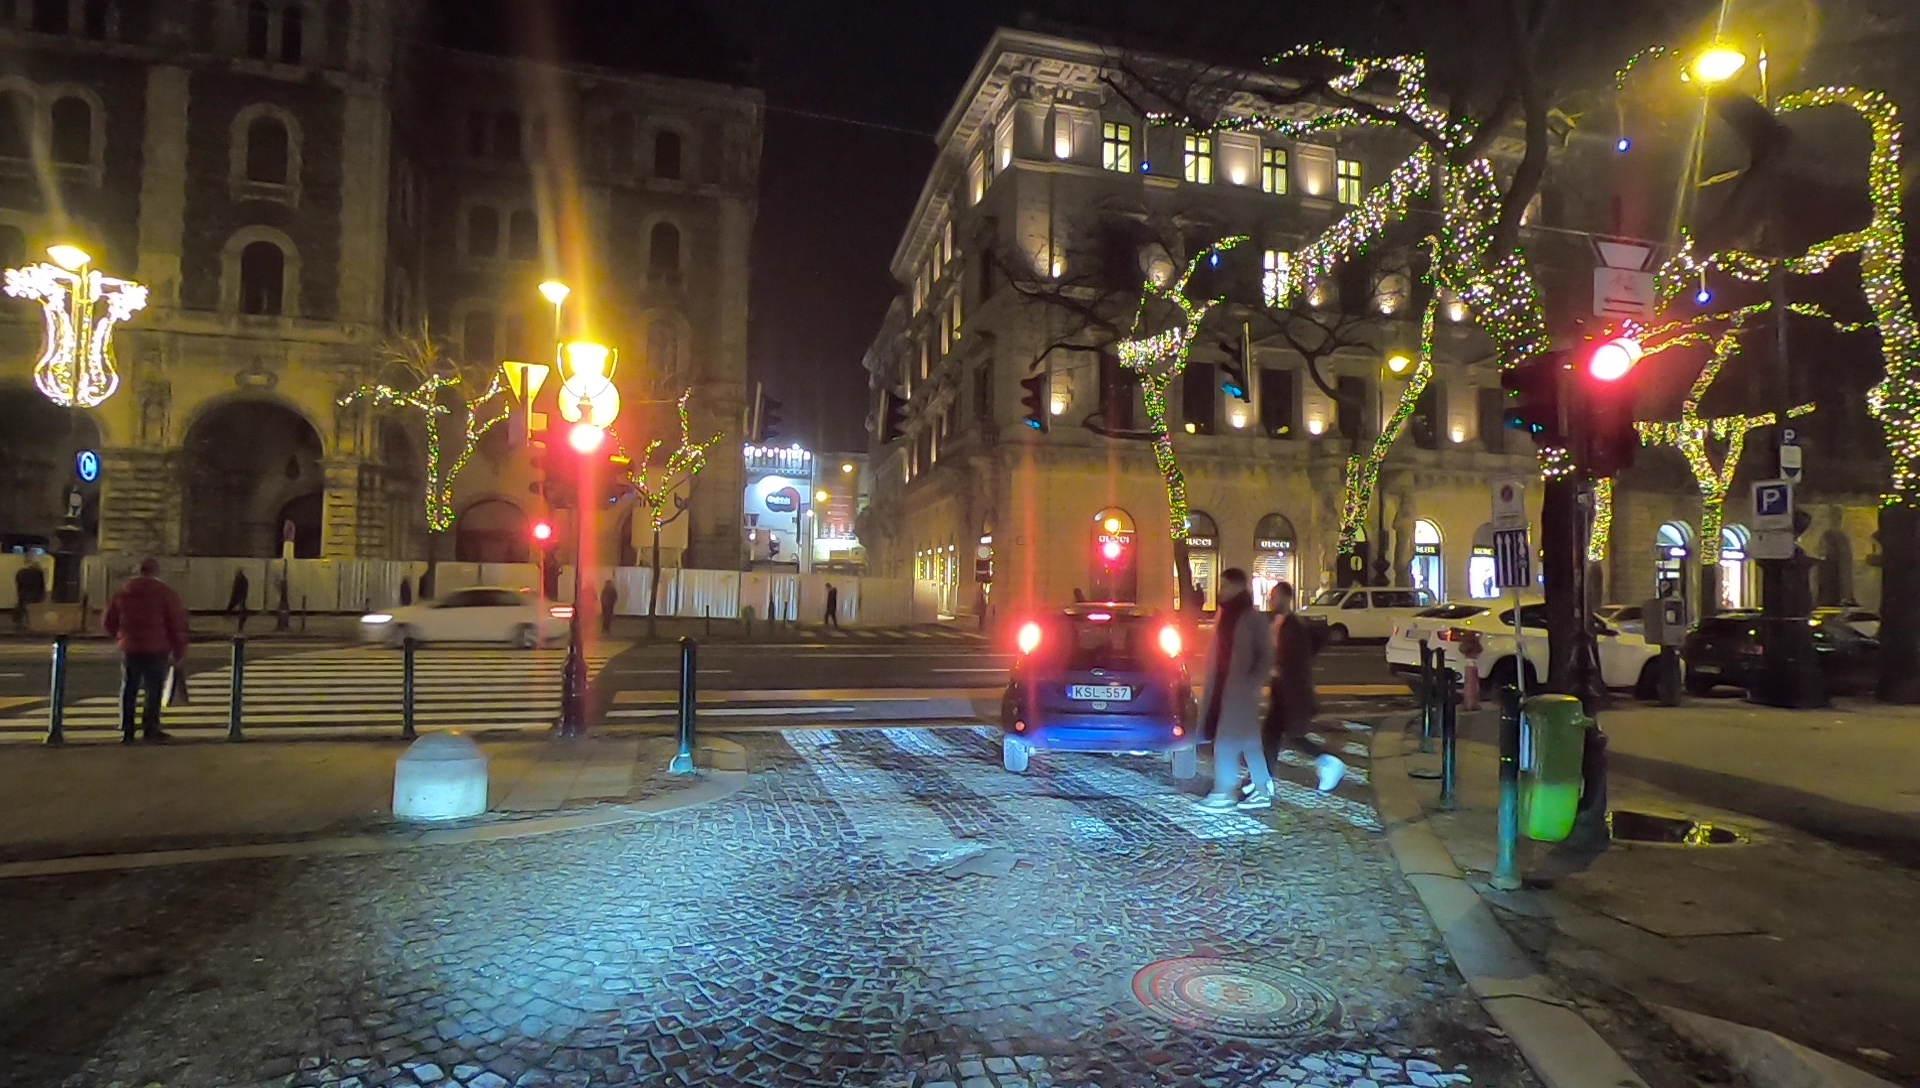person: (1261, 582, 1354, 799), (103, 557, 193, 741), (1201, 563, 1263, 816), (224, 567, 249, 628), (578, 580, 597, 636), (601, 580, 617, 632), (822, 579, 837, 630), (974, 584, 987, 632)
